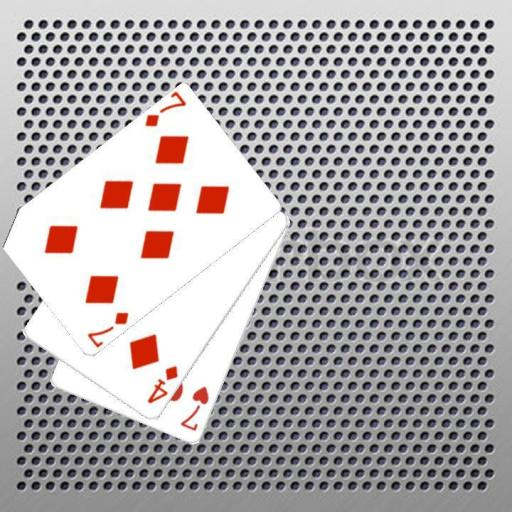card-corner: (84, 308, 131, 348), (142, 90, 188, 130), (177, 383, 211, 433), (144, 363, 180, 406)
